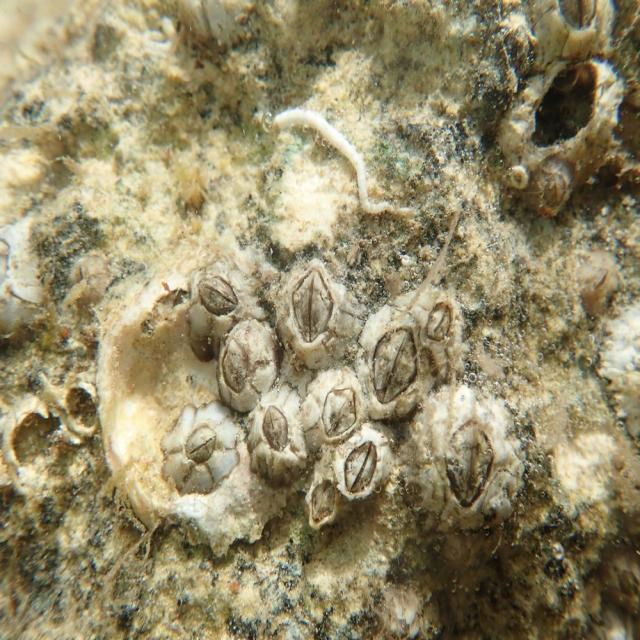barnacles: (412, 393, 524, 543), (356, 303, 434, 427), (155, 400, 239, 513), (282, 255, 364, 365), (245, 388, 310, 491), (183, 251, 264, 332), (211, 320, 281, 403), (298, 362, 368, 440), (326, 430, 394, 503), (422, 289, 474, 376), (532, 157, 573, 223)
